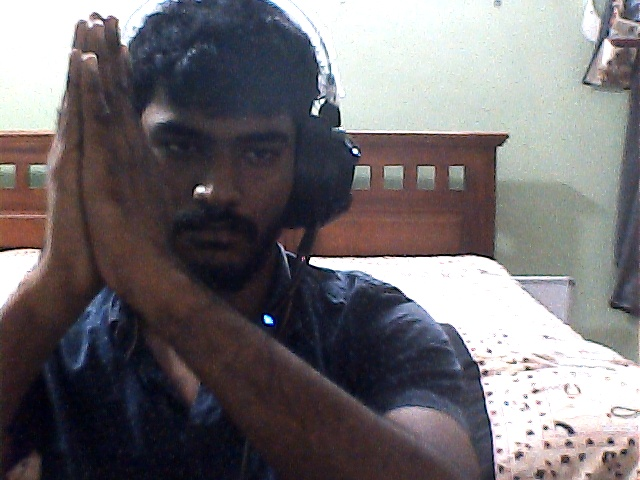Sign: (35, 8, 173, 311)
